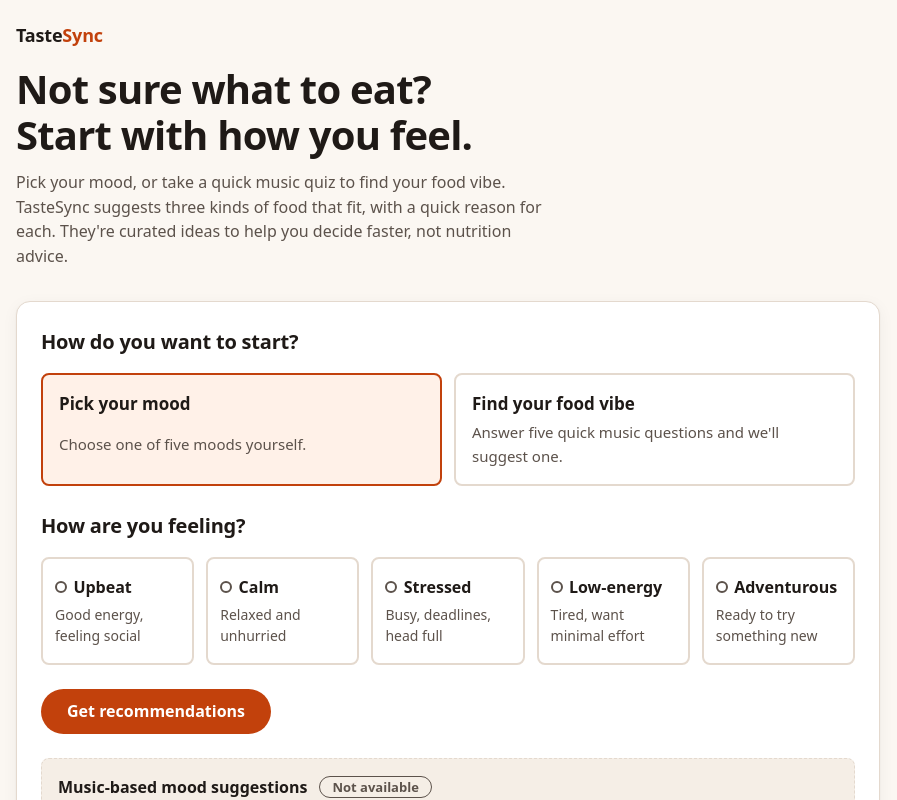
Test: restaurant suggestions (demo list) › explains when the demo list has no matches
The width and height of the screenshot is (897, 800).
Click the radio button labelled "Calm": (283, 611) [206,557,359,665]
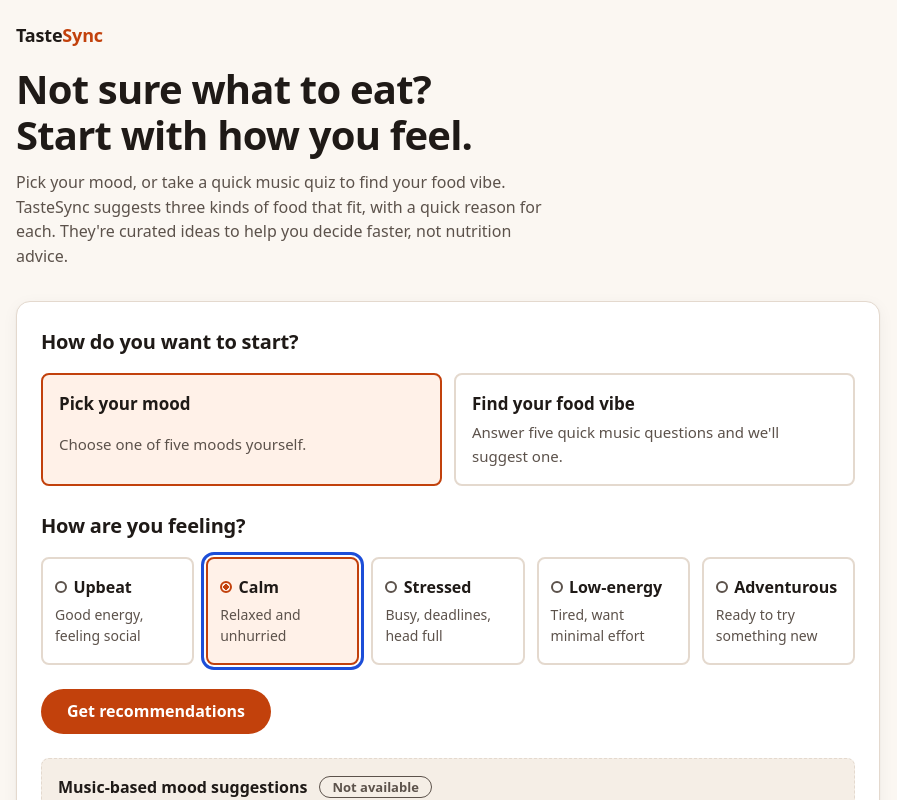
Click the button "Get recommendations": (156, 712) [41,689,271,734]
(page scrolled)
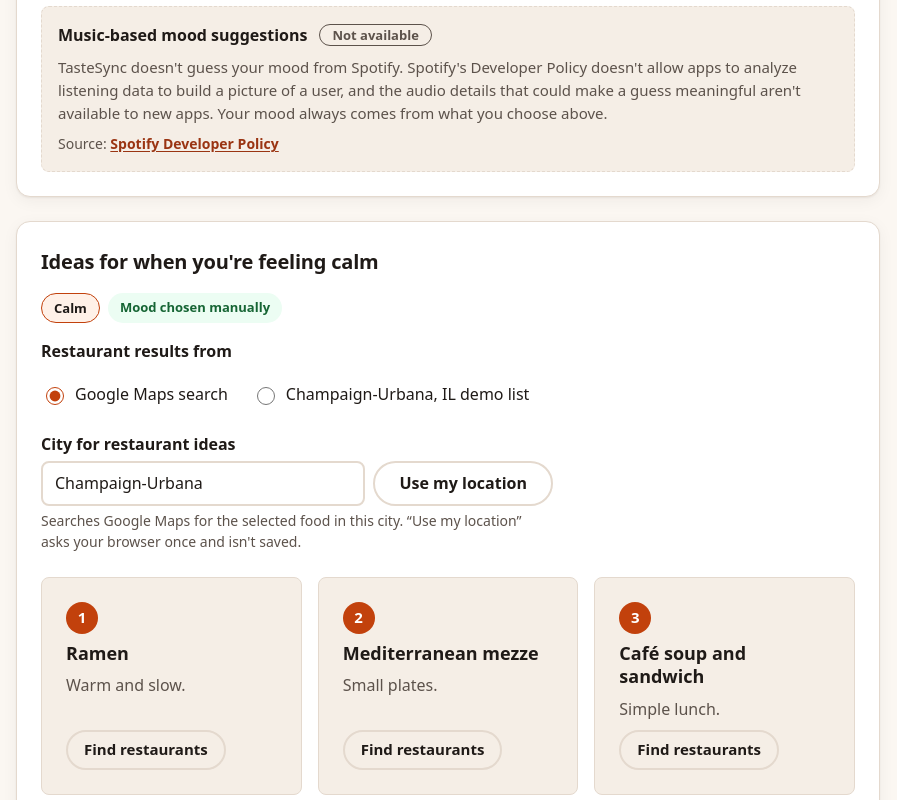
Expected: the heading "Ideas for when you're feeling calm" is shown, [41,248,378,275]
Click the radio button labelled "Champaign-Urbana, IL demo list": (266, 396) [257,387,275,405]
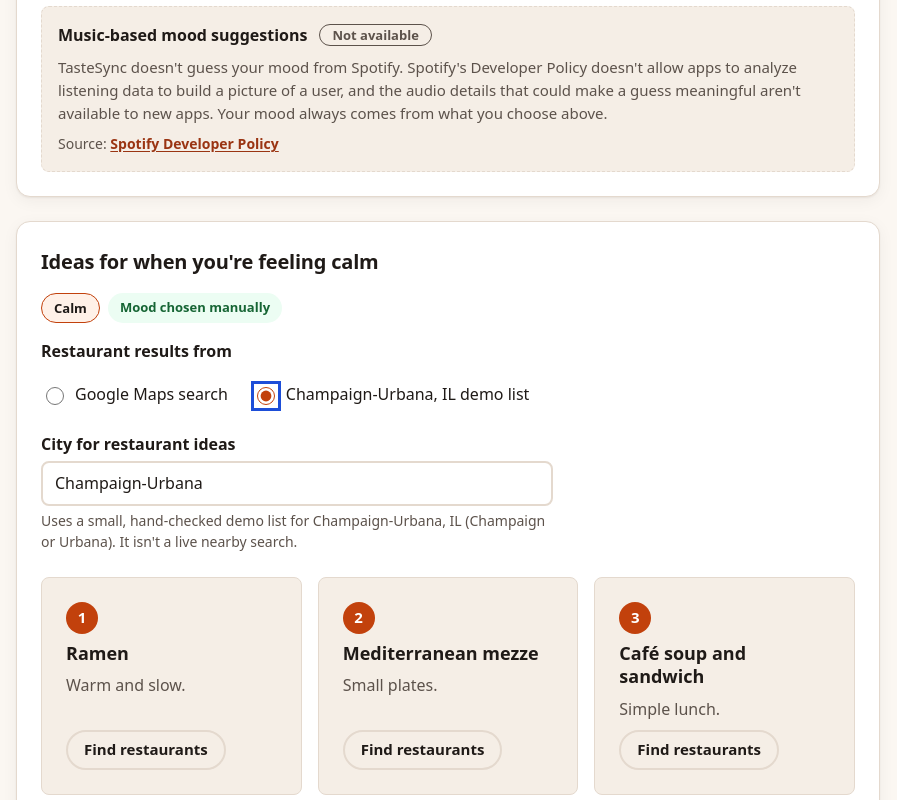
Click the button with aria-label "Find restaurants for Café soup and sandwich": (699, 750) [619,730,779,770]
(page scrolled)
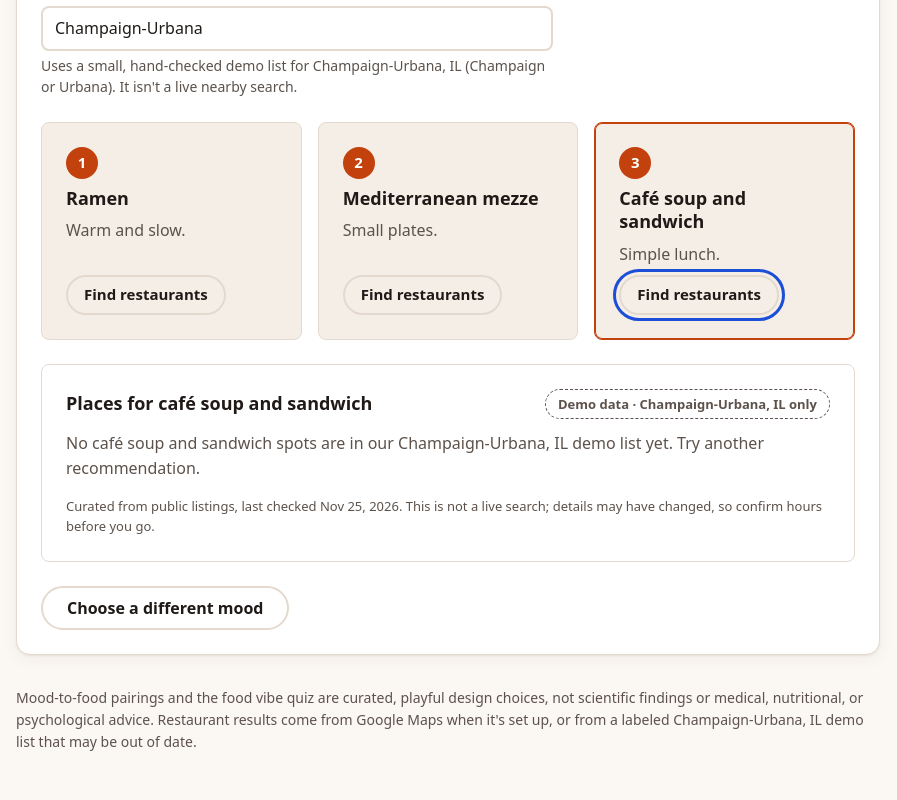
Expected: the text "No café soup and sandwich spots are in our Champaign-Urbana" is shown, [66,431,830,480]
